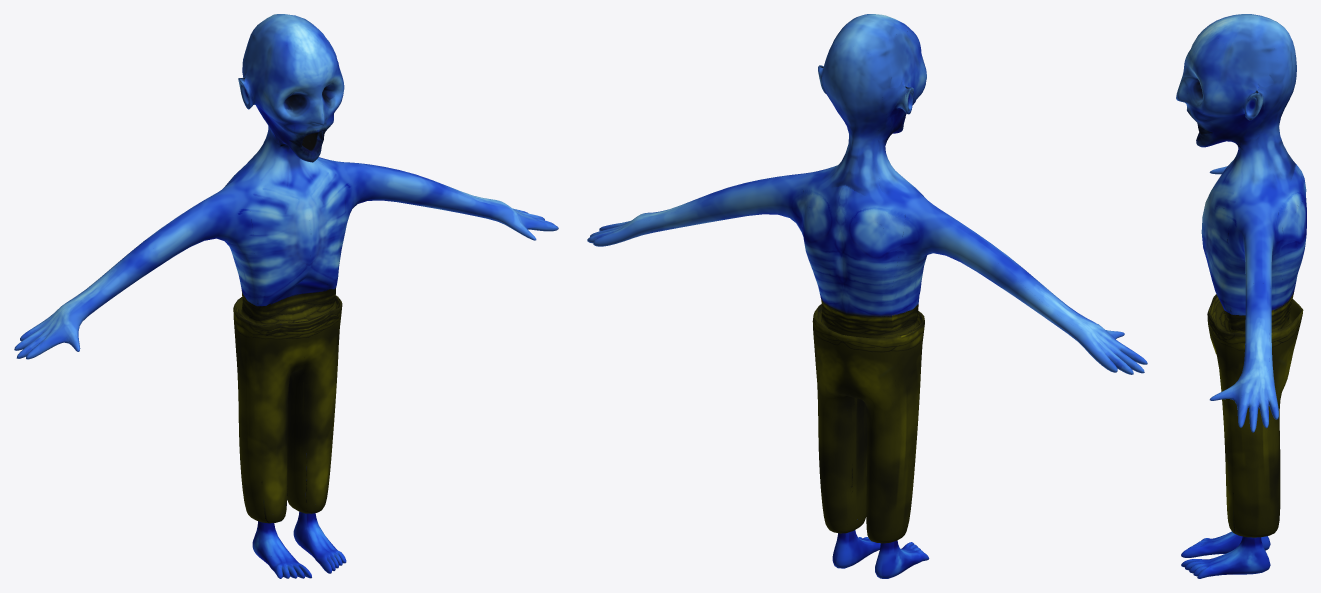
The model's file is zombie.fbx.
The picture shows the model from 3 angles, left to right: view 1: azimuth 30°, elevation 25°; view 2: azimuth 150°, elevation 25°; view 3: azimuth 270°, elevation 25°; orthographic projection. The views are drawn at different scales.
Parts seen in each view (by area): view 1: Cube; view 2: Cube; view 3: Cube.
Part boxes in pixels (<box>): Cube: <box>14,14,558,578</box>; Cube: <box>587,14,1147,578</box>; Cube: <box>1176,14,1306,578</box>.
Size of the model in its own units: 1085 by 1030 by 224.
